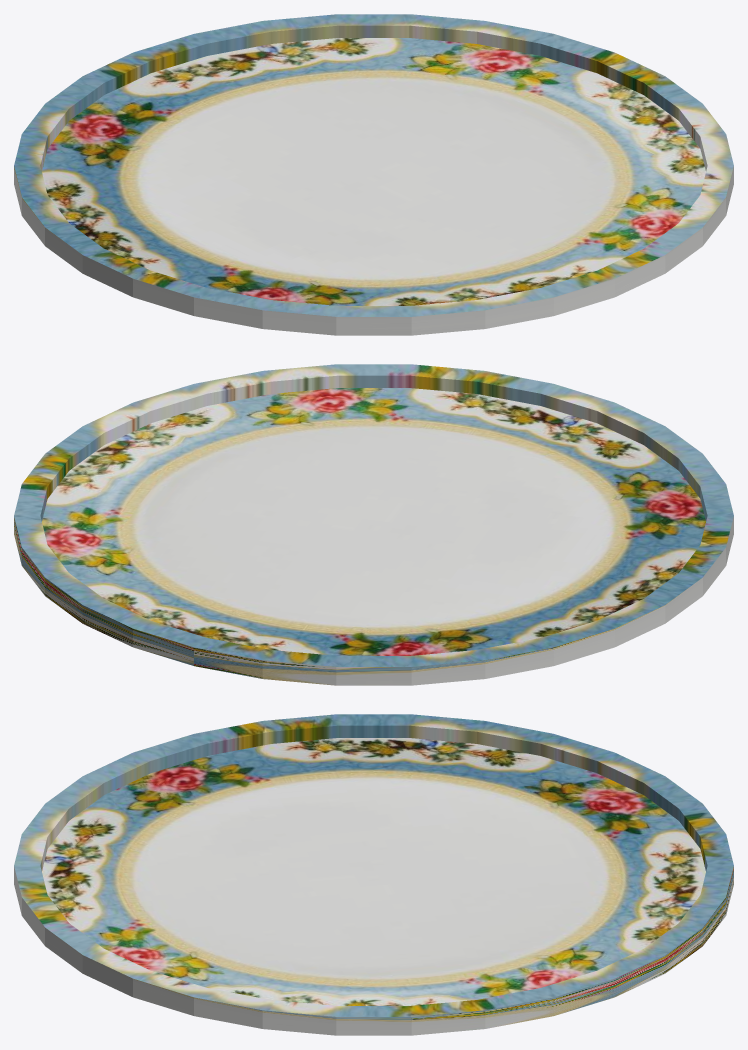
The picture shows the model from 3 angles, top to bottom: view 1: azimuth 30°, elevation 25°; view 2: azimuth 150°, elevation 25°; view 3: azimuth 270°, elevation 25°; orthographic projection.
Visible parts, largest first — view 1: Cylinder.002; view 2: Cylinder.002; view 3: Cylinder.002.
Part boxes in pixels (left/top/right/bottom): Cylinder.002: left=14, top=14, right=733, bottom=335; Cylinder.002: left=14, top=364, right=733, bottom=685; Cylinder.002: left=14, top=714, right=733, bottom=1035.
Bounding box in the file's own units: 126 × 7.36 × 126.
